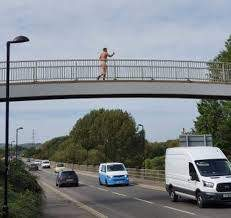bridge: (1, 58, 229, 103)
